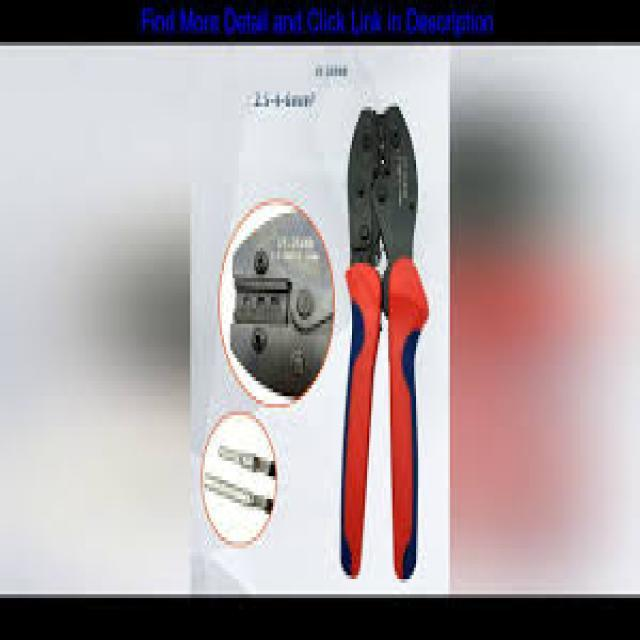pliers: (332, 86, 431, 584)
